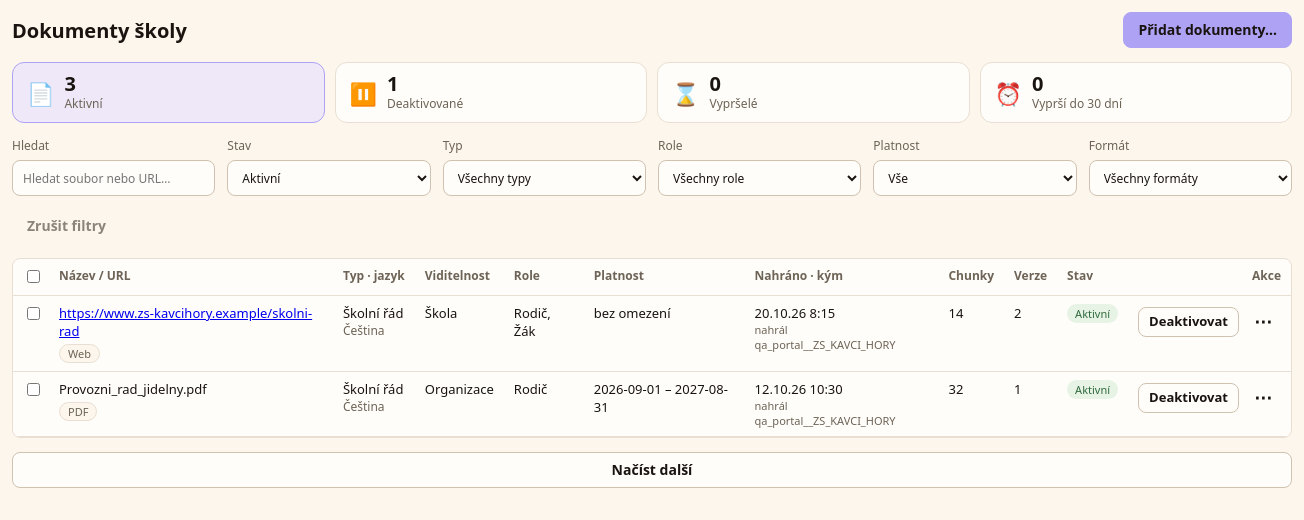
DocumentsPage — list › renders the documents with labels, counts and state, and pages with next_cursor
Expected: the link "https://www.zs-kavcihory.example/skolni-rad" is shown, [59,304,323,340]
Expected: the text "Provozni_rad_jidelny.pdf" is shown, [59,380,207,398]
Click the button "Načíst další" at (652,470), box [12,452,1292,488]
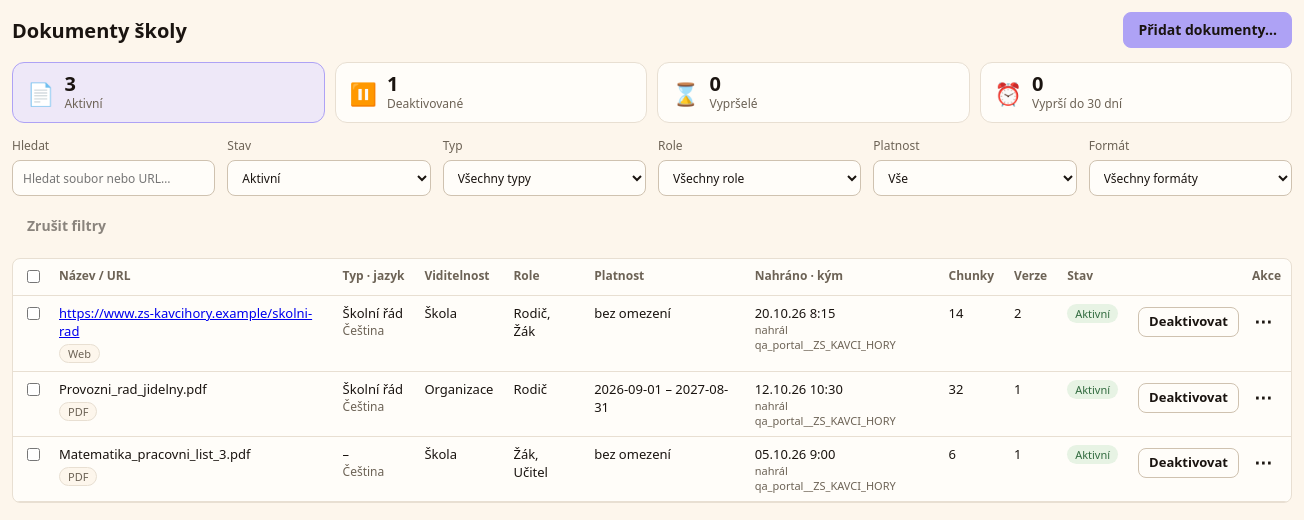
Expected: the link "https://www.zs-kavcihory.example/skolni-rad" is shown, [59,304,323,340]
Result: the text "Matematika_pracovni_list_3.pdf" is shown at [59,445,250,463]
Result: the button "Načíst další" is gone
